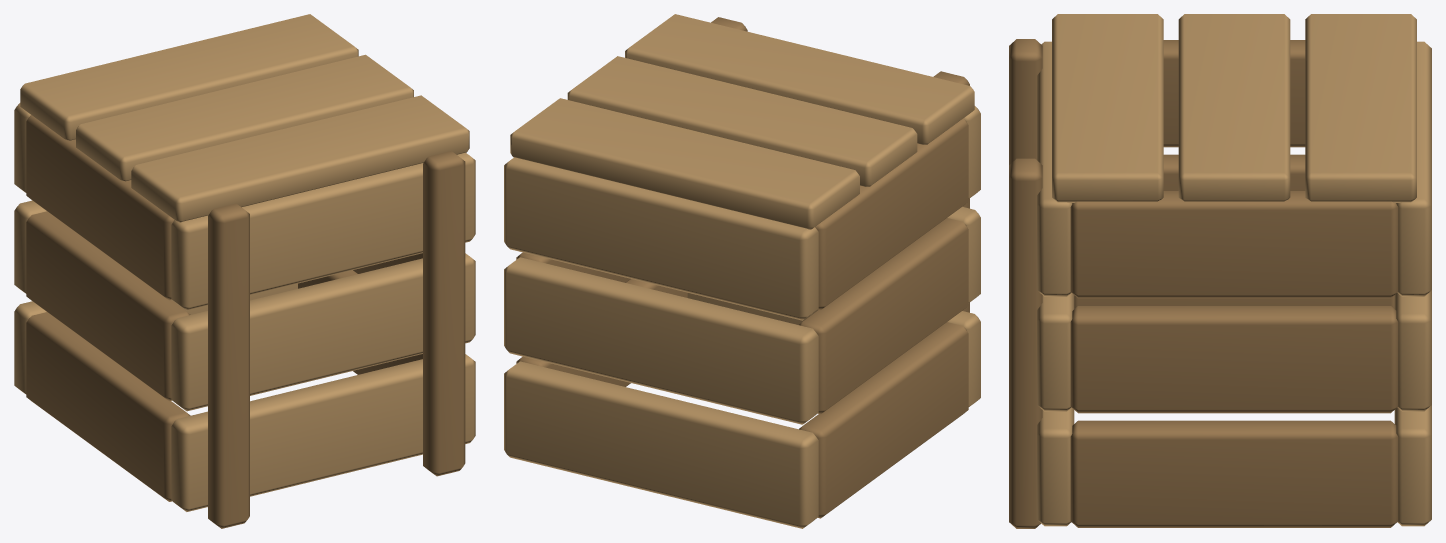
File: prop_supply_crate.glb
3 renders of one model, left to right at view 1: azimuth 30°, elevation 25°; view 2: azimuth 150°, elevation 25°; view 3: azimuth 270°, elevation 25°, orthographic. The views are drawn at different scales.
Visible parts, largest first — view 1: crate plank, crate plank.002, lid plank, crate plank.004, lid plank.002, lid plank.001, crate side.002, crate side, crate upright.001, crate upright, crate side.004, crate plank.001 (+3 smaller); view 2: crate plank.001, crate plank.003, crate plank.005, lid plank.002, lid plank.001, lid plank, crate side, crate side.002, crate side.004, crate plank, crate plank.002, crate plank.004 (+2 smaller); view 3: crate side.003, crate side.001, crate side.005, lid plank.001, lid plank, lid plank.002, crate upright.001, crate plank.005, crate plank.004, crate plank.001, crate plank.003, crate plank (+5 smaller).
Part boxes in pixels (left/top/right/bottom): crate plank: left=171, top=354, right=475, bottom=511; crate plank.002: left=171, top=253, right=475, bottom=411; lid plank: left=131, top=95, right=469, bottom=222; crate plank.004: left=171, top=152, right=475, bottom=310; lid plank.002: left=20, top=14, right=358, bottom=140; lid plank.001: left=76, top=54, right=413, bottom=181; crate side.002: left=26, top=211, right=190, bottom=401; crate side: left=26, top=312, right=190, bottom=501; crate upright.001: left=423, top=151, right=465, bottom=476; crate upright: left=208, top=203, right=249, bottom=528; crate side.004: left=26, top=115, right=174, bottom=300; crate plank.001: left=14, top=283, right=297, bottom=394; crate plank.001: left=504, top=361, right=818, bottom=528; crate plank.003: left=504, top=257, right=818, bottom=424; crate plank.005: left=504, top=157, right=818, bottom=320; lid plank.002: left=510, top=98, right=859, bottom=229; lid plank.001: left=567, top=56, right=917, bottom=186; lid plank: left=625, top=14, right=974, bottom=144; crate side: left=799, top=322, right=968, bottom=518; crate side.002: left=799, top=218, right=968, bottom=414; crate side.004: left=815, top=118, right=968, bottom=310; crate plank: left=687, top=293, right=980, bottom=406; crate plank.002: left=947, top=206, right=980, bottom=302; crate plank.004: left=963, top=106, right=980, bottom=198; crate side.003: left=1070, top=306, right=1398, bottom=413; crate side.001: left=1070, top=420, right=1398, bottom=527; crate side.005: left=1070, top=191, right=1398, bottom=298; lid plank.001: left=1178, top=14, right=1290, bottom=201; lid plank: left=1052, top=14, right=1163, bottom=202; lid plank.002: left=1305, top=14, right=1416, bottom=202; crate upright.001: left=1009, top=158, right=1042, bottom=528; crate plank.005: left=1396, top=41, right=1431, bottom=296; crate plank.004: left=1037, top=41, right=1072, bottom=296; crate plank.001: left=1394, top=405, right=1431, bottom=526; crate plank.003: left=1394, top=290, right=1431, bottom=411; crate plank: left=1037, top=407, right=1074, bottom=526.
Bounding box in the file's own units: 0.53 × 0.5475 × 0.5675.
